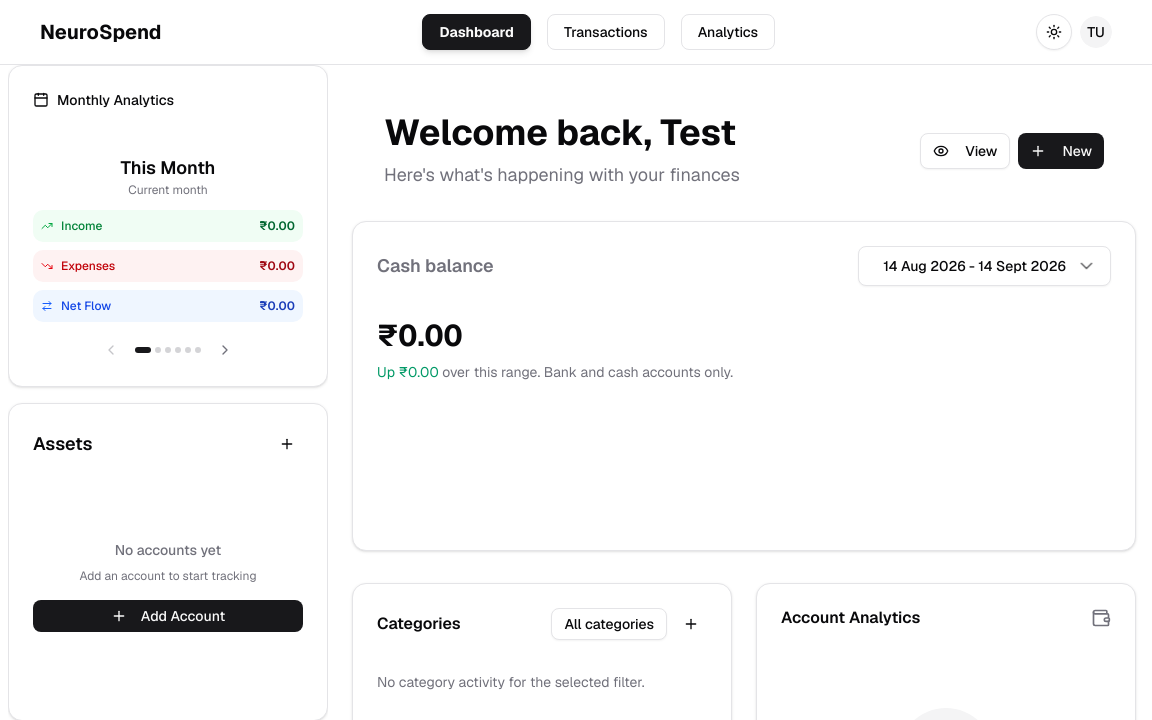
Test: dashboard page › opens the command center and the view center
Expected: the heading "Welcome back, Test" is shown, x1=384 y1=113 x2=740 y2=153
Click the button "New".
click(1061, 151)  # box x1=1018 y1=133 x2=1104 y2=169
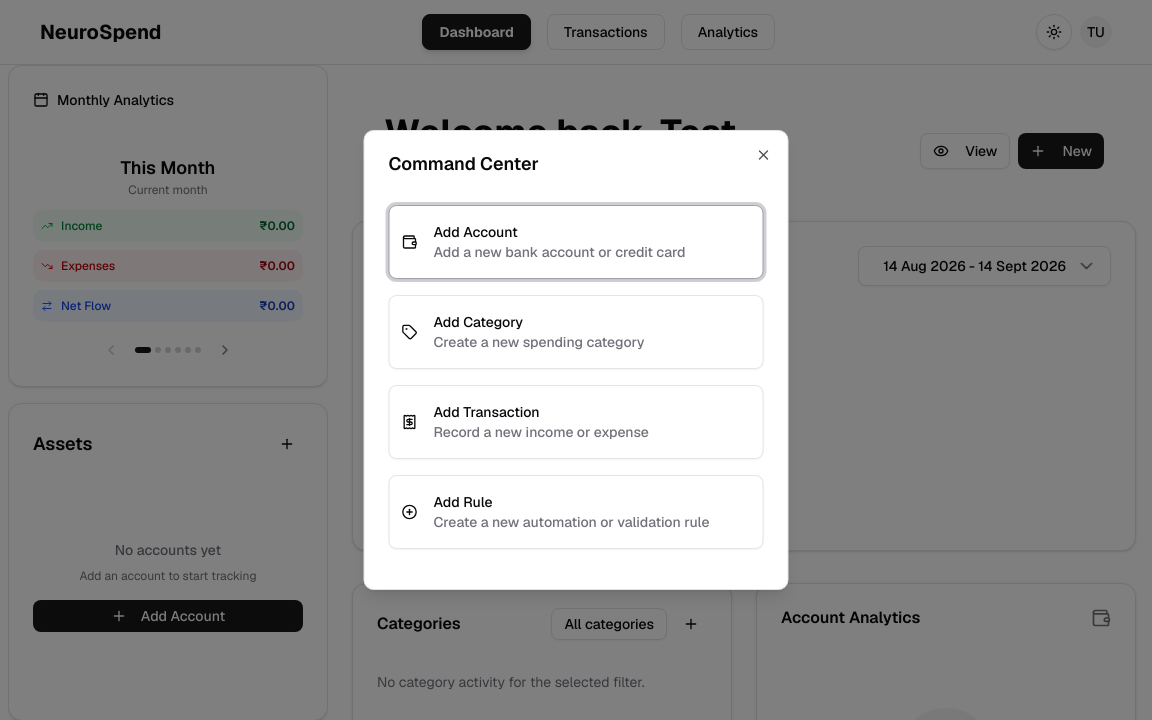
Expected: the dialog "Command Center" is shown, x1=364 y1=130 x2=788 y2=590
Press Escape
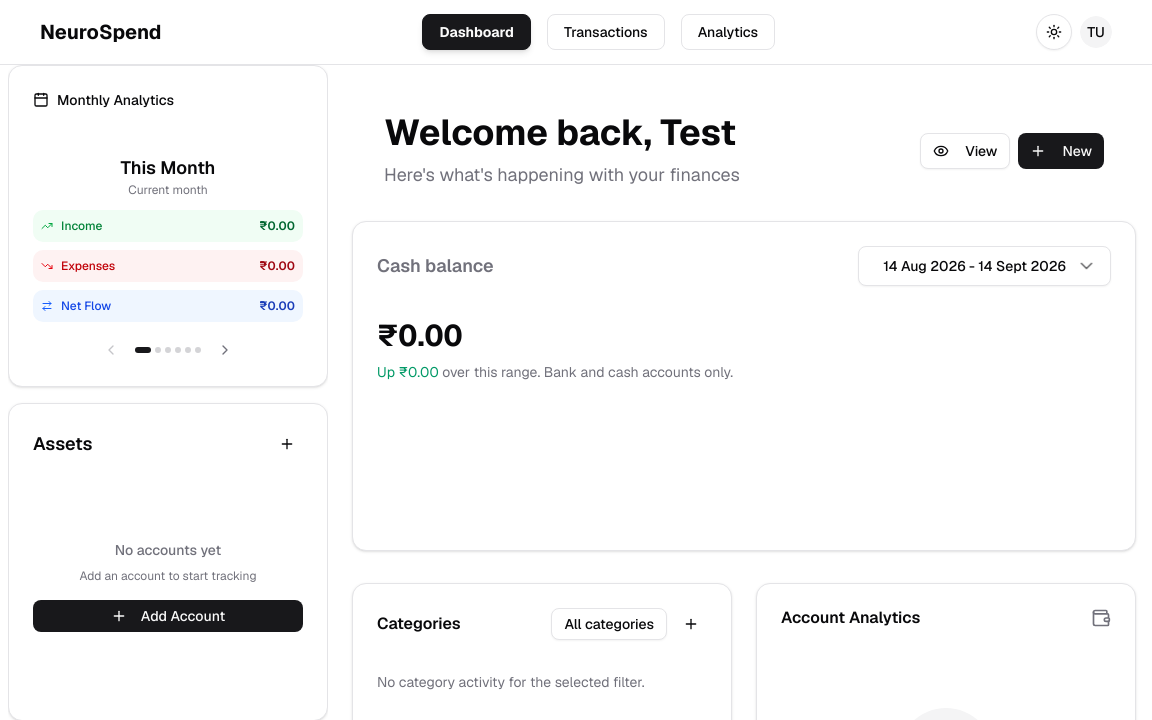
Expected: the heading "Command Center" is gone
Click the button "View".
click(965, 151)  # box x1=920 y1=133 x2=1010 y2=169
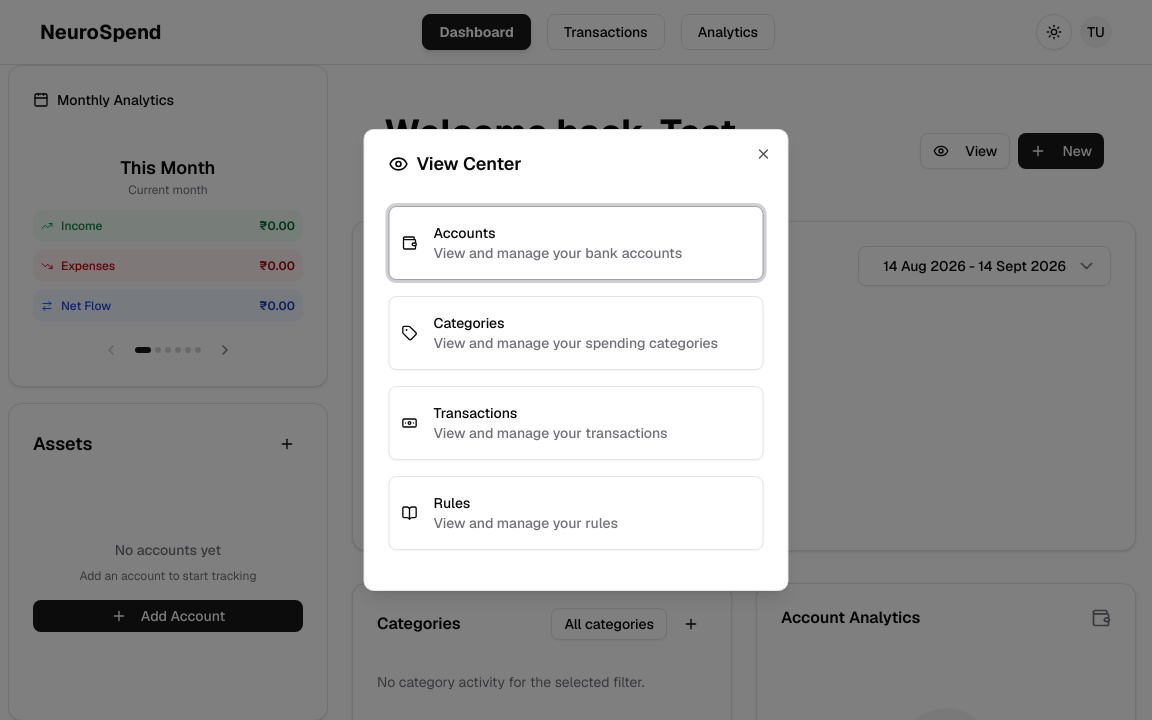
Expected: the dialog "View Center" is shown, x1=364 y1=129 x2=788 y2=591
